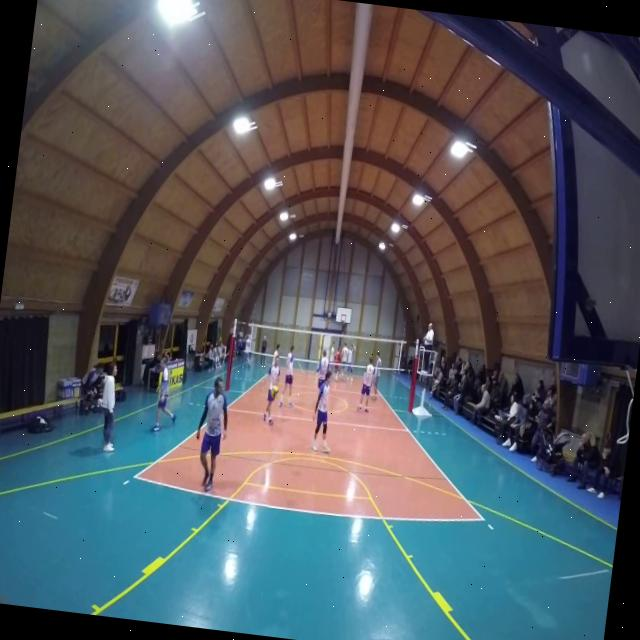Volleyball: (268, 384, 280, 401)
